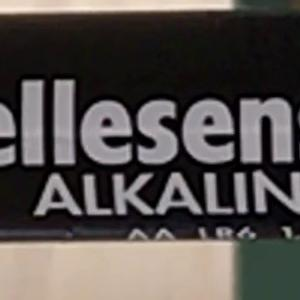ALK: (24, 164, 146, 225)
